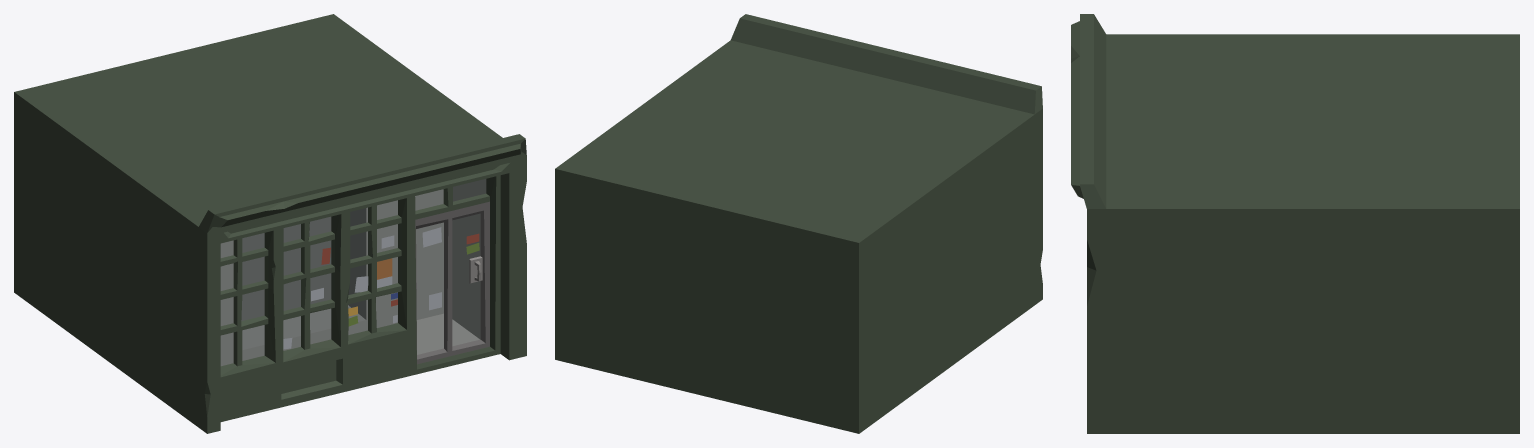
File: SM_Bld_Shop_02.fbx
The picture shows the model from 3 angles, left to right: view 1: azimuth 30°, elevation 25°; view 2: azimuth 150°, elevation 25°; view 3: azimuth 270°, elevation 25°; orthographic projection. The views are drawn at different scales.
Visible parts, largest first — view 1: SM_Bld_Shop_02, SM_Bld_Shop_02_Glass; view 2: SM_Bld_Shop_02; view 3: SM_Bld_Shop_02.
Part boxes in pixels (left/top/right/bottom): SM_Bld_Shop_02: left=14, top=14, right=526, bottom=433; SM_Bld_Shop_02_Glass: left=221, top=179, right=485, bottom=365; SM_Bld_Shop_02: left=555, top=14, right=1042, bottom=433; SM_Bld_Shop_02: left=1071, top=14, right=1519, bottom=433.
Size of the model in its own units: 500 by 330 by 543.
